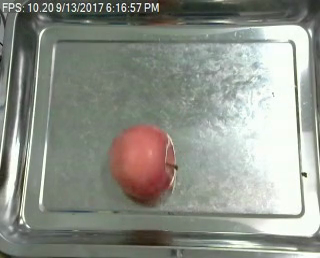Apple: (108, 120, 179, 203)
